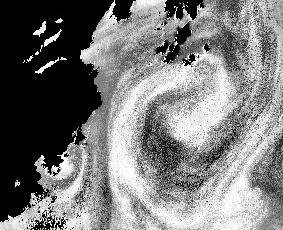AE: (113, 49, 272, 197)
